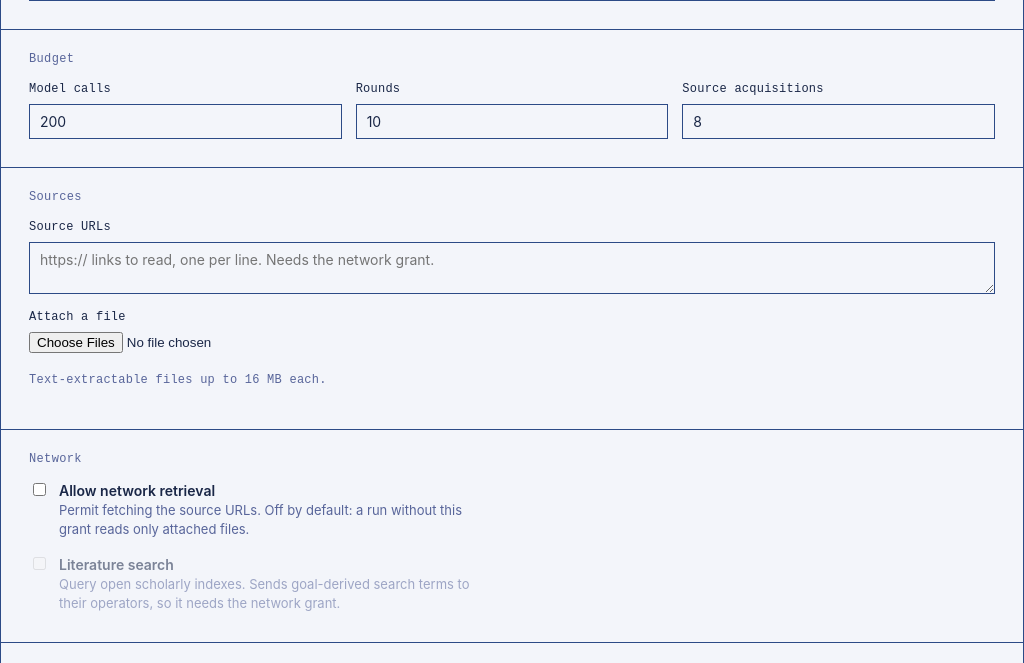
Test: RunForm › unlocks literature search only after the network grant
This screenshot has width=1024, height=663.
(page scrolled)
Expected: the field labelled "arXiv" is not shown
Click the checkbox labelled "Allow network retrieval": [40, 489] box [33,483,46,496]
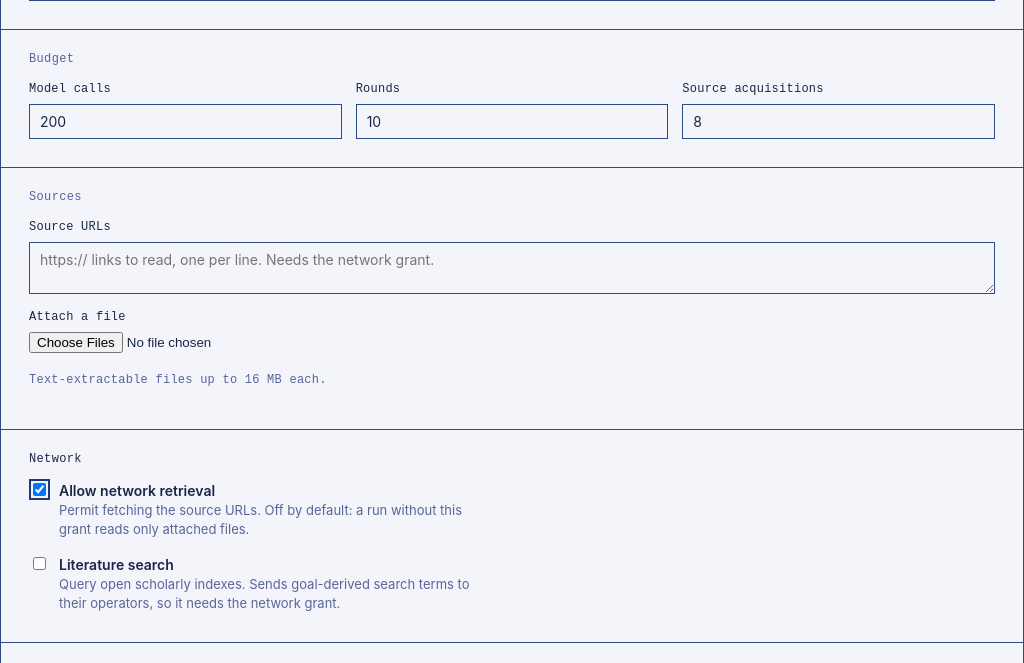
Expected: the checkbox labelled "Literature search" is enabled
Click the checkbox labelled "Literature search": [40, 563] box [33,557,46,570]
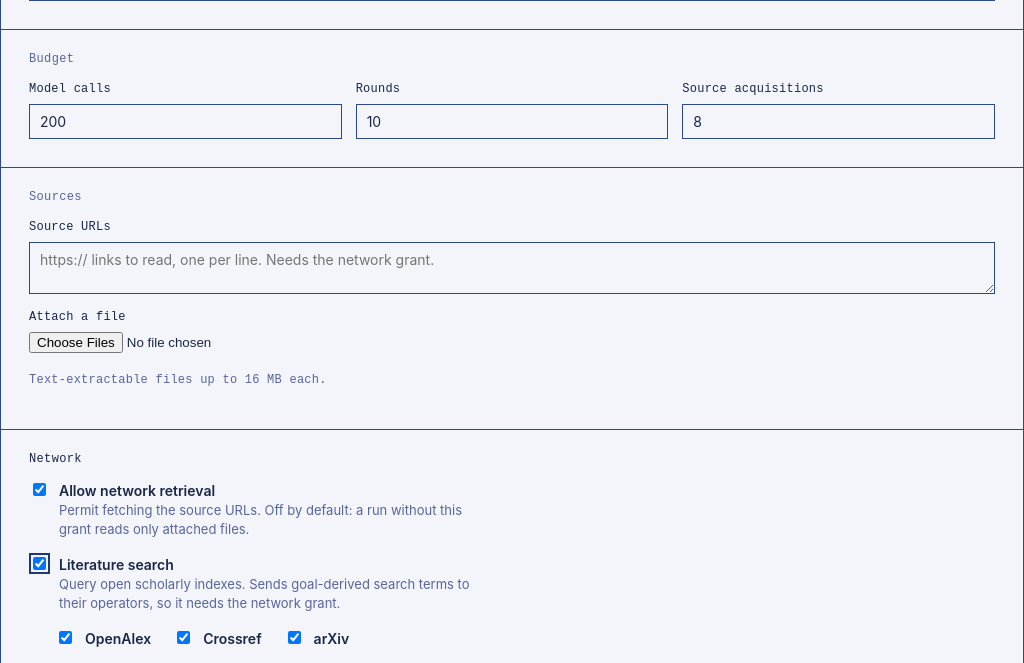
Expected: the checkbox labelled "arXiv" is checked, [288,631,301,644]
Expected: the checkbox labelled "OpenAlex" is checked, [59,631,72,644]
Expected: the checkbox labelled "Crossref" is checked, [177,631,190,644]
